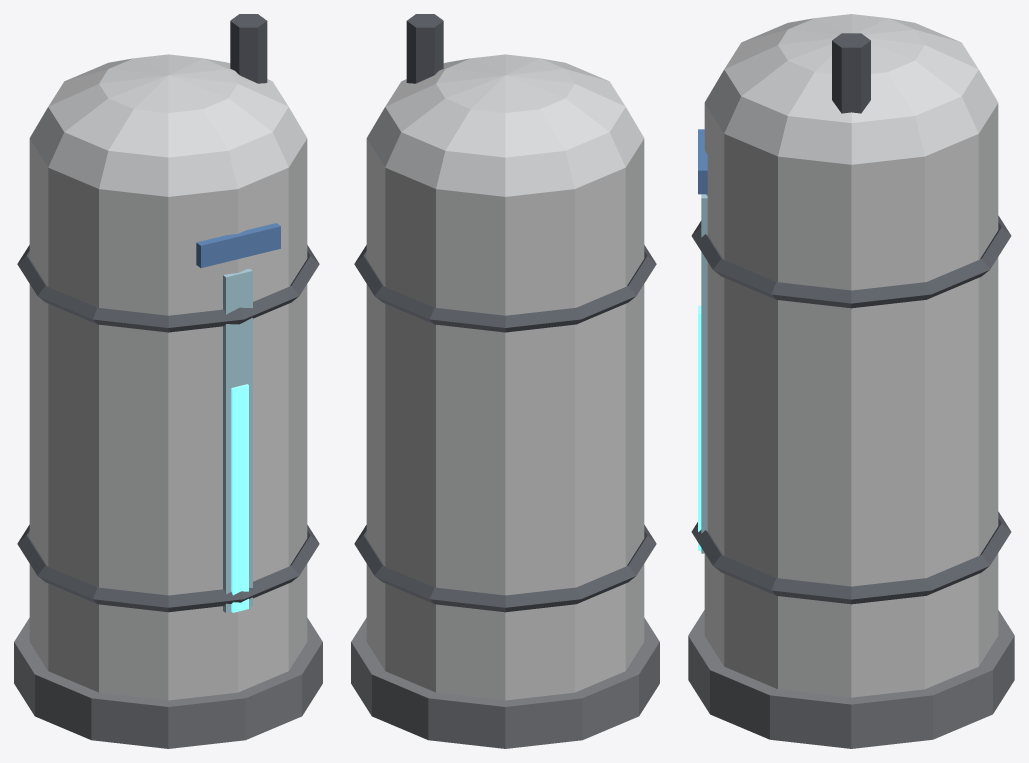
File: SM_Coolant_Tank.glb
3 views of the same model, side by side, from view 1: azimuth 30°, elevation 25°; view 2: azimuth 150°, elevation 25°; view 3: azimuth 270°, elevation 25° (orthographic). The views are drawn at different scales.
Parts seen in each view (by area): view 1: SM_Coolant_Tank; view 2: SM_Coolant_Tank; view 3: SM_Coolant_Tank.
Boxes of the visible parts, x1,y1,x2,y2 form: SM_Coolant_Tank: (14,14,322,748); SM_Coolant_Tank: (351,14,659,748); SM_Coolant_Tank: (688,14,1014,748).
Size of the model in its own units: 1 by 2.3 by 1.
